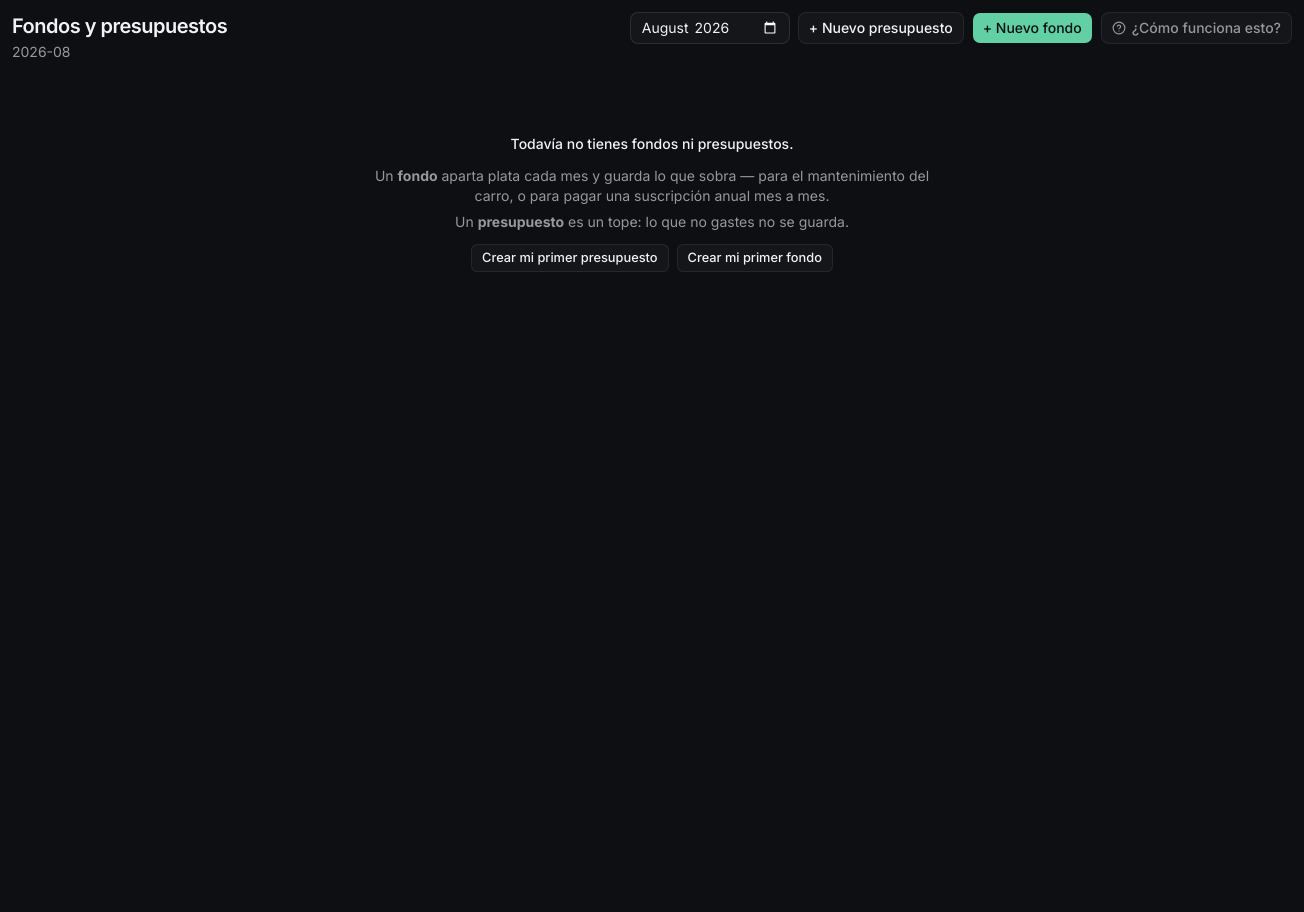
Test: AC-5 — the rule picker names the job and carries a worked number › The subscription rule says what it does with a real charge
Click the button "+ Nuevo fondo".
click(1032, 28)  # box left=972, top=12, right=1093, bottom=44
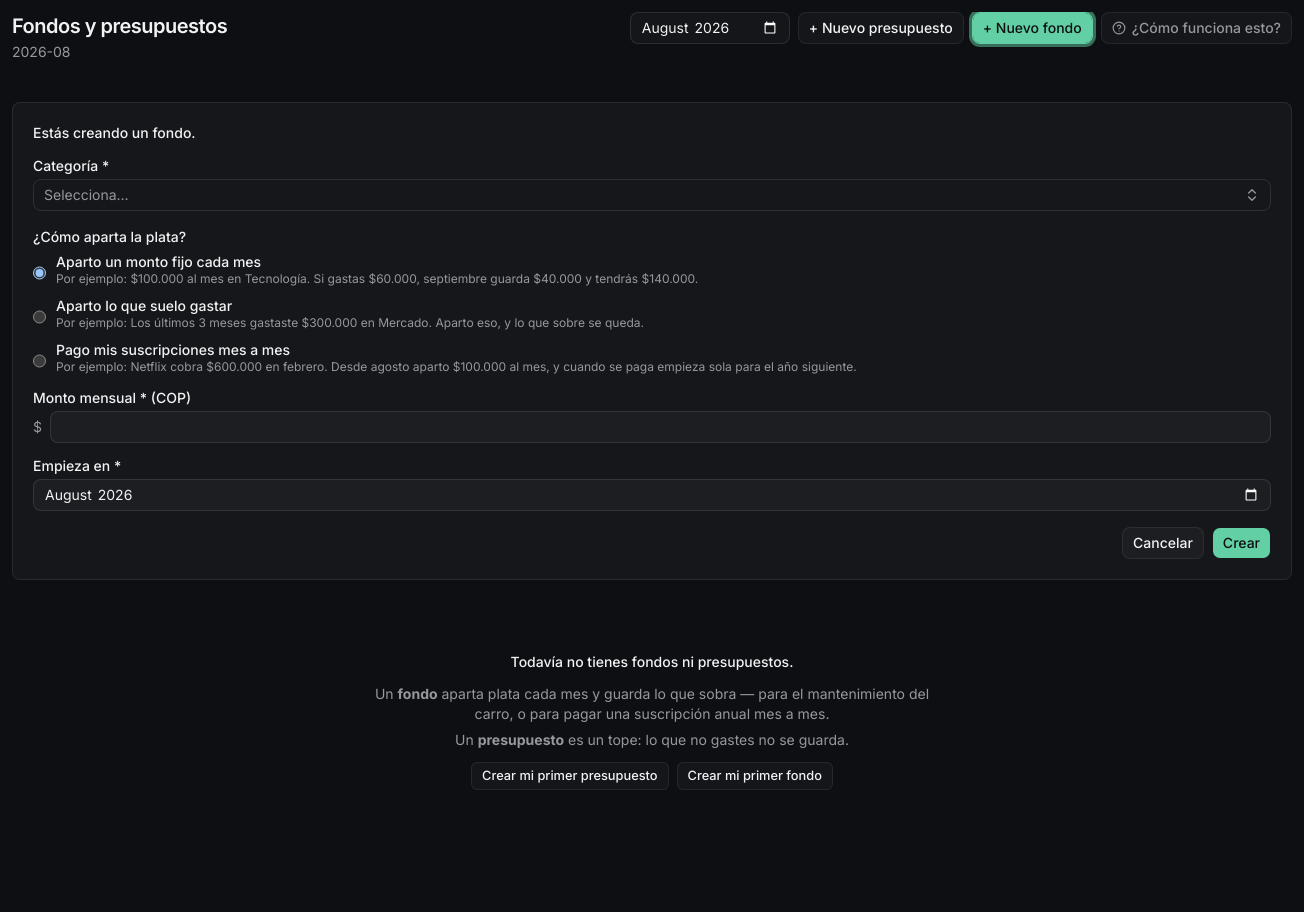
Click the dropdown named "Categoría *".
click(86, 194)  # box left=33, top=179, right=1271, bottom=211
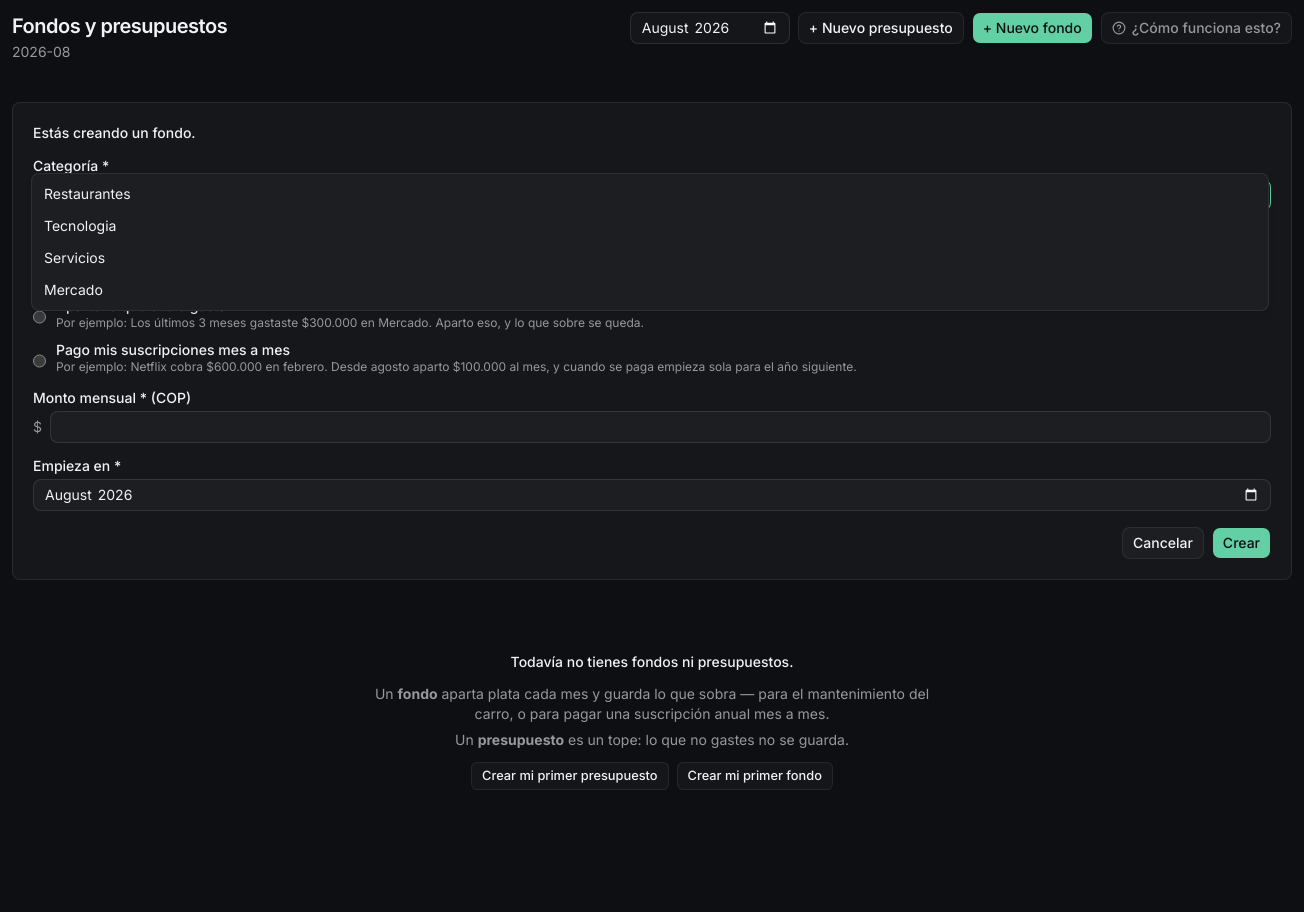
Click the option "Servicios".
click(75, 258)  # box left=44, top=249, right=105, bottom=266
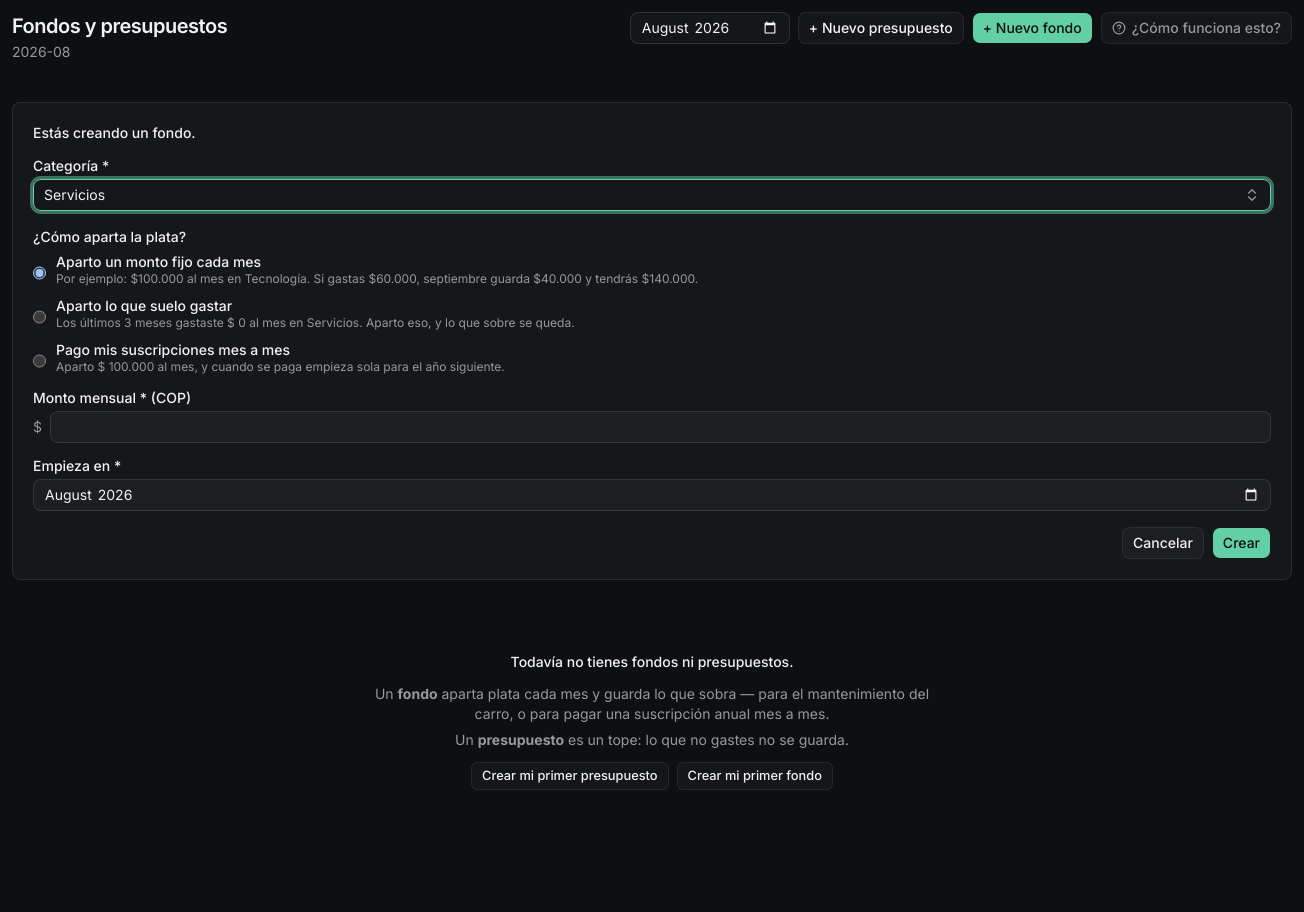
Result: the text "Aparto $ 100.000 al mes, y cuando se paga empieza sola" is shown at left=56, top=359, right=505, bottom=374
